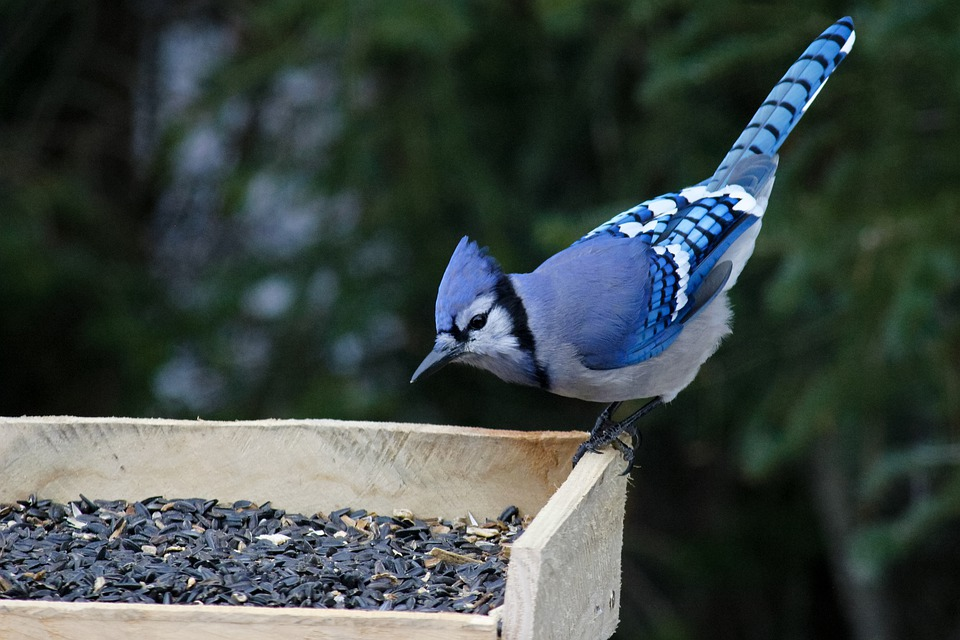bird: (410, 54, 837, 406)
